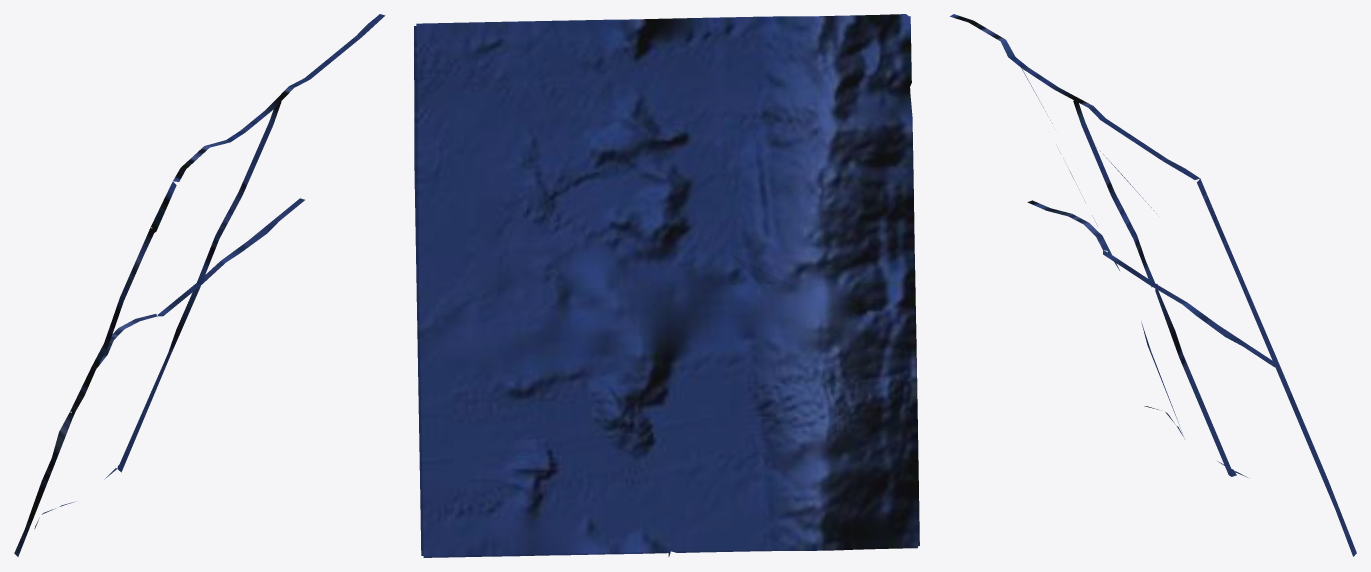
3 renders of one model, left to right at view 1: azimuth 30°, elevation 25°; view 2: azimuth 150°, elevation 25°; view 3: azimuth 270°, elevation 25°, orthographic. The views are drawn at different scales.
Bounding box in the file's own units: 77583 × 73970 × 64603.
1 material, 1 textured.
